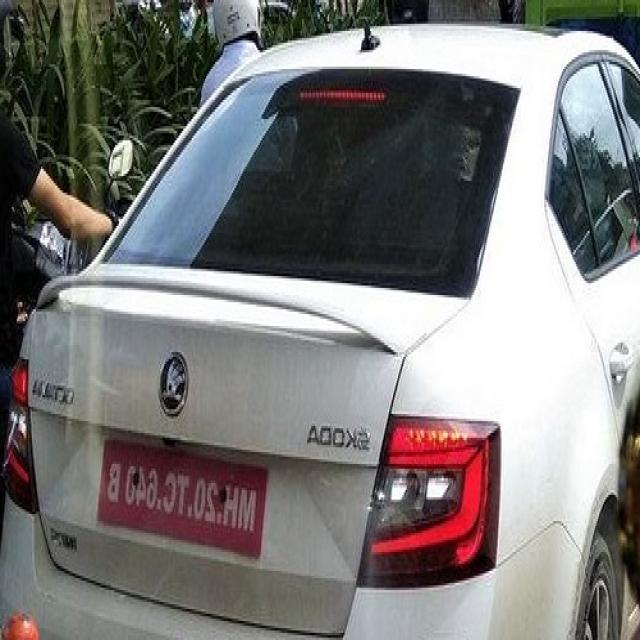number-plate: (65, 447, 285, 546)
